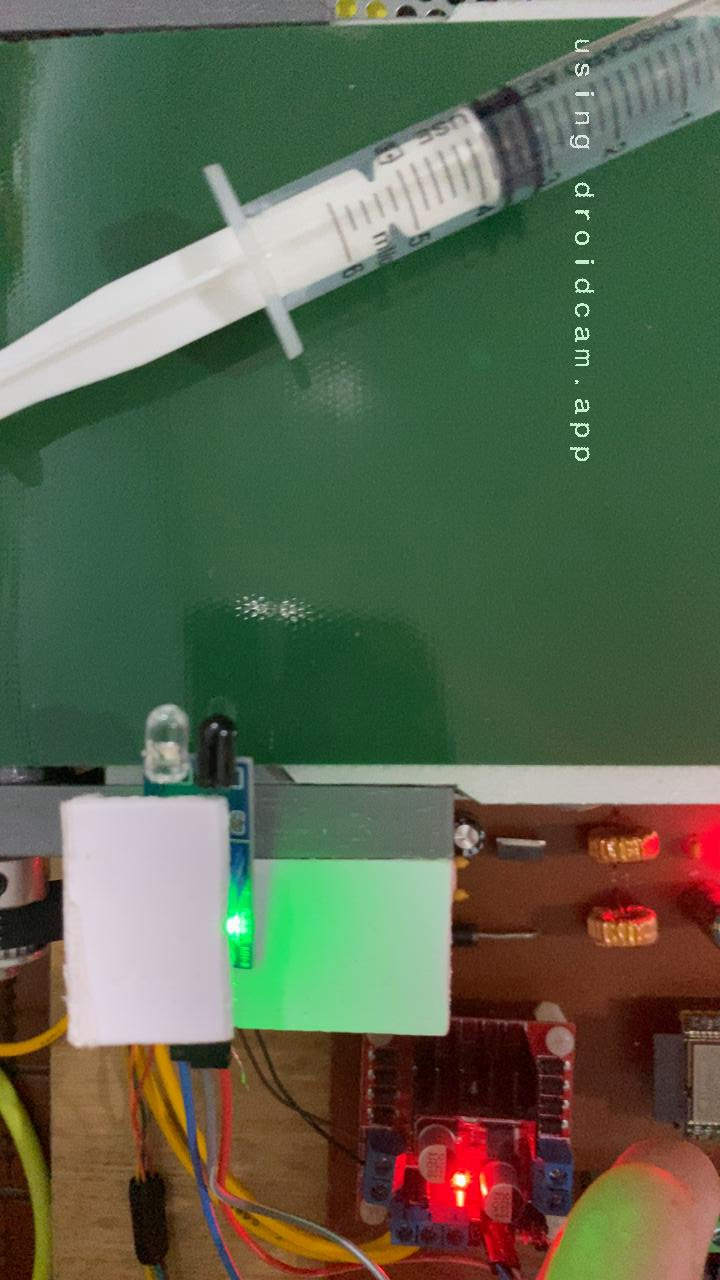syringe: (0, 23, 720, 426)
